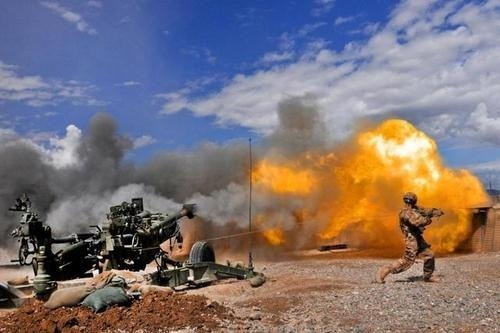fire: (251, 113, 480, 245)
